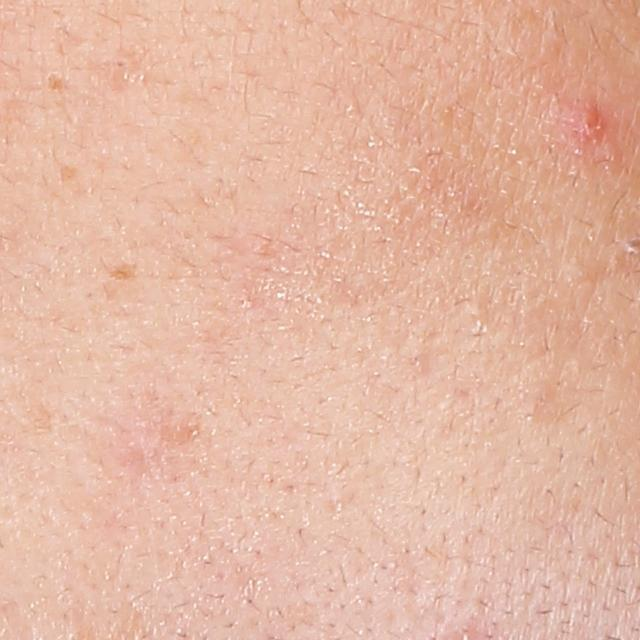papule: (572, 105, 604, 143)
